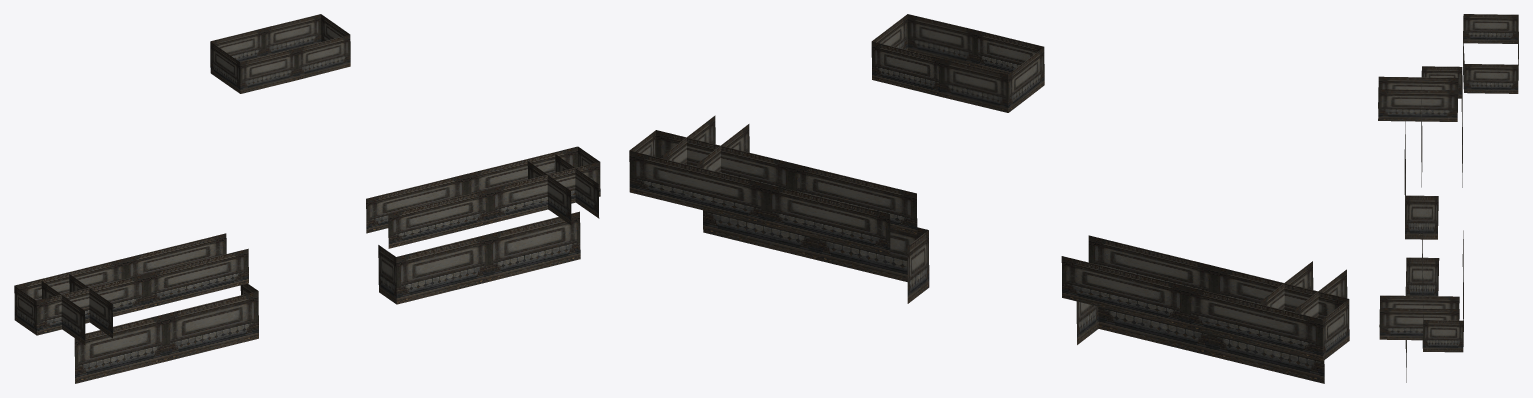
The model's file is jd_fangzi_5.FBX.
The picture shows the model from 3 angles, left to right: view 1: azimuth 30°, elevation 25°; view 2: azimuth 150°, elevation 25°; view 3: azimuth 270°, elevation 25°; orthographic projection. The views are drawn at different scales.
Parts seen in each view (by area): view 1: jd_fangzi_5; view 2: jd_fangzi_5; view 3: jd_fangzi_5.
Part boxes in pixels (bbox=[...]): jd_fangzi_5: bbox=[14, 14, 600, 383]; jd_fangzi_5: bbox=[629, 14, 1349, 383]; jd_fangzi_5: bbox=[1378, 14, 1518, 382].
Size of the model in its own units: 2297 by 975 by 538.
